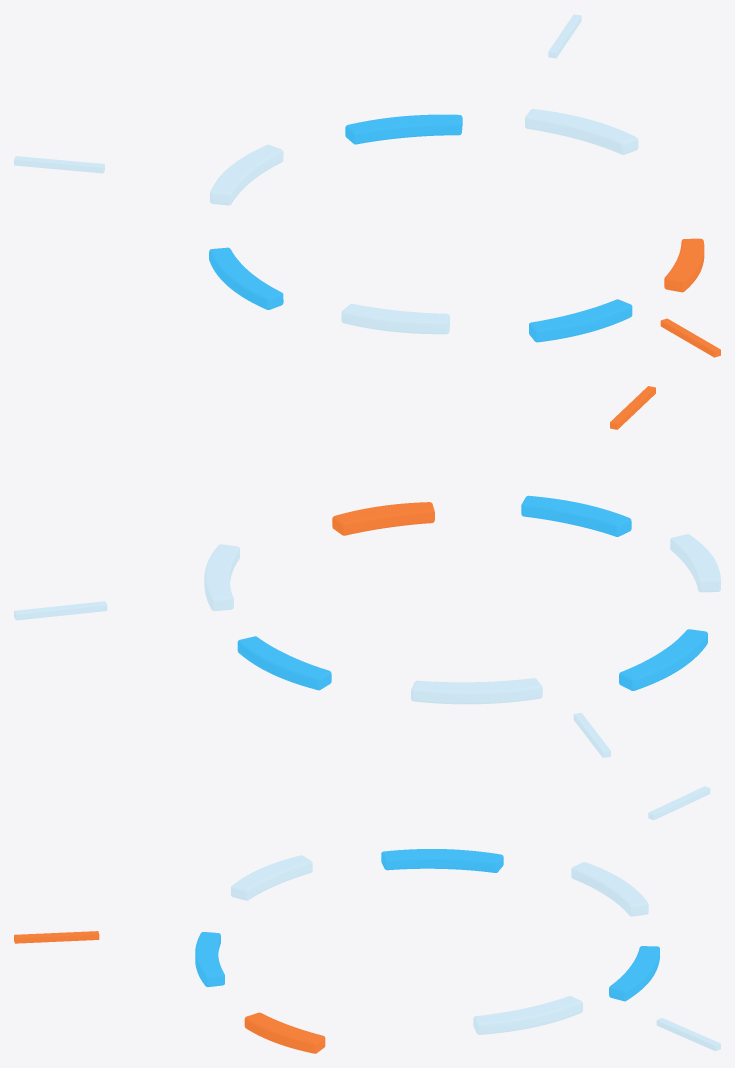
Rendered from ev_core_r11_energy.glb.
The picture shows the model from 3 angles, top to bottom: view 1: azimuth 30°, elevation 25°; view 2: azimuth 150°, elevation 25°; view 3: azimuth 270°, elevation 25°; orthographic projection. The views are drawn at different scales.
Parts seen in each view (by area): view 1: EnergyArc_0, EnergyArc_1, EnergyArc_4, EnergyArc_5, EnergyArc_3, EnergyArc_2, EnergyArc_6, EnergySeam_1, EnergySeam_2, EnergySeam_0; view 2: EnergyArc_2, EnergyArc_5, EnergyArc_3, EnergyArc_1, EnergyArc_6, EnergyArc_0, EnergyArc_4, EnergySeam_0, EnergySeam_2, EnergySeam_1; view 3: EnergyArc_3, EnergyArc_0, EnergyArc_2, EnergyArc_4, EnergyArc_6, EnergyArc_1, EnergyArc_5, EnergySeam_2, EnergySeam_0, EnergySeam_1.
Boxes of the visible parts, box(x1,y1,x2,y2) form: EnergyArc_0: box(525, 109, 638, 154); EnergyArc_1: box(345, 114, 462, 144); EnergyArc_4: box(341, 303, 449, 334); EnergyArc_5: box(529, 299, 632, 342); EnergyArc_3: box(209, 247, 283, 309); EnergyArc_2: box(210, 144, 283, 205); EnergyArc_6: box(664, 238, 704, 292); EnergySeam_1: box(14, 156, 104, 173); EnergySeam_2: box(660, 318, 720, 357); EnergySeam_0: box(548, 14, 581, 58); EnergyArc_2: box(411, 678, 542, 704); EnergyArc_5: box(521, 495, 631, 536); EnergyArc_3: box(619, 629, 707, 690); EnergyArc_1: box(237, 636, 331, 690); EnergyArc_6: box(332, 502, 434, 535); EnergyArc_0: box(204, 544, 239, 610); EnergyArc_4: box(670, 534, 720, 592); EnergySeam_0: box(14, 601, 107, 620); EnergySeam_2: box(610, 386, 655, 429); EnergySeam_1: box(573, 713, 610, 757); EnergyArc_3: box(381, 849, 503, 872); EnergyArc_0: box(473, 996, 582, 1034); EnergyArc_2: box(571, 862, 648, 916); EnergyArc_4: box(231, 855, 312, 900); EnergyArc_6: box(244, 1012, 325, 1053); EnergyArc_1: box(609, 946, 659, 1001); EnergyArc_5: box(195, 932, 224, 987); EnergySeam_2: box(14, 931, 99, 943); EnergySeam_0: box(656, 1018, 720, 1051); EnergySeam_1: box(648, 786, 710, 820).
Bounding box in the file's own units: 4.19 × 0.3875 × 4.82.
